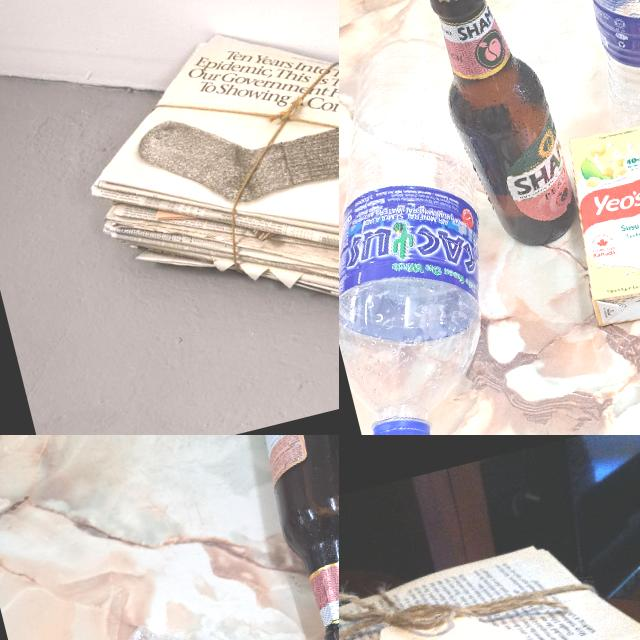caixinha: (557, 124, 640, 333)
garrafa de vidro: (409, 0, 581, 260), (245, 435, 339, 640)
garrafa plástica: (339, 33, 533, 429), (575, 0, 640, 151)
papel: (59, 0, 339, 374), (339, 512, 640, 640)
tampa plástica: (362, 411, 436, 435)
